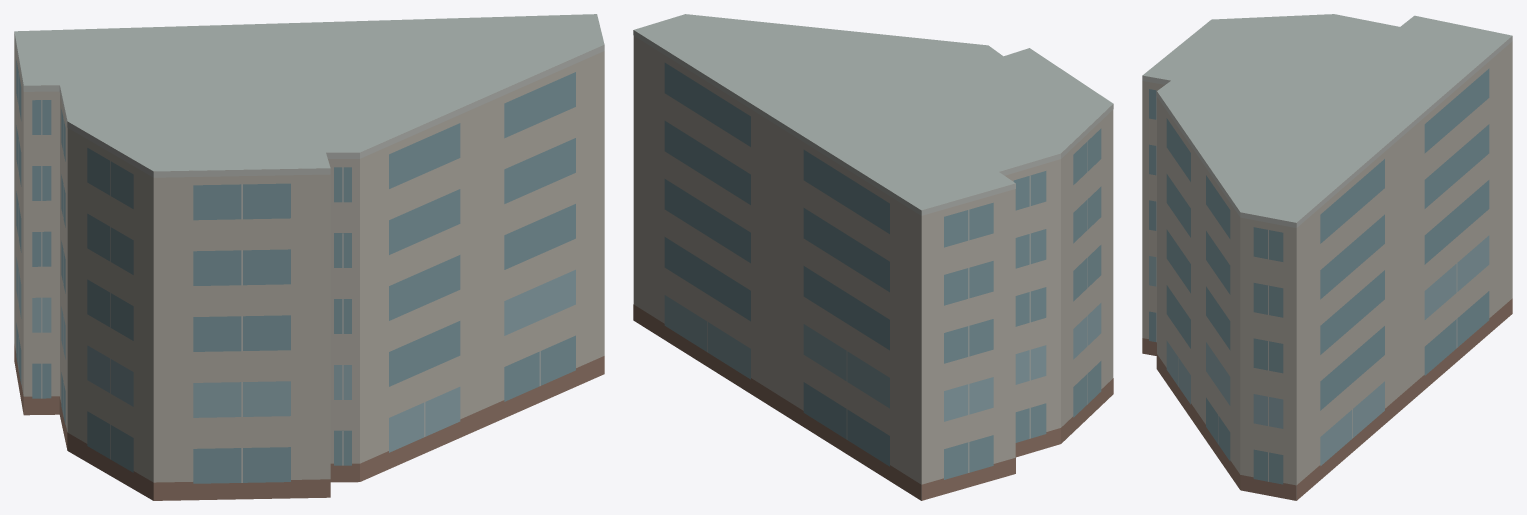
The model's file is survey-upis-32711815.glb.
3 views of the same model, side by side, from view 1: azimuth 30°, elevation 25°; view 2: azimuth 150°, elevation 25°; view 3: azimuth 270°, elevation 25° (orthographic). The views are drawn at different scales.
Visible parts, largest first — view 1: survey-upis-32711815.tmp; view 2: survey-upis-32711815.tmp; view 3: survey-upis-32711815.tmp.
Boxes of the visible parts, box(x1,y1,x2,y2) form: survey-upis-32711815.tmp: box(14, 14, 604, 500); survey-upis-32711815.tmp: box(633, 14, 1113, 500); survey-upis-32711815.tmp: box(1142, 14, 1512, 500).
Bounding box in the file's own units: 20.63 × 12.8 × 15.46.
